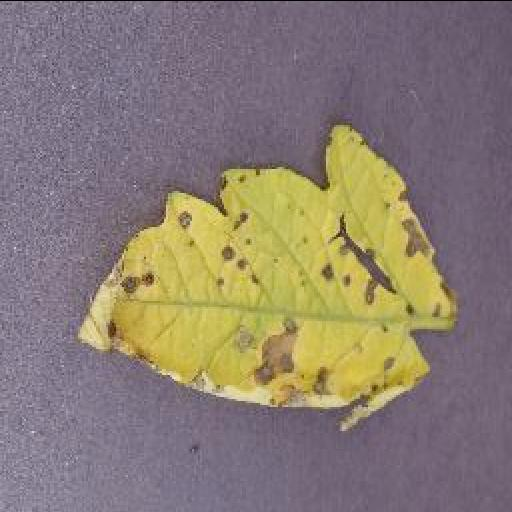disease_tomato: (74, 121, 462, 426)
